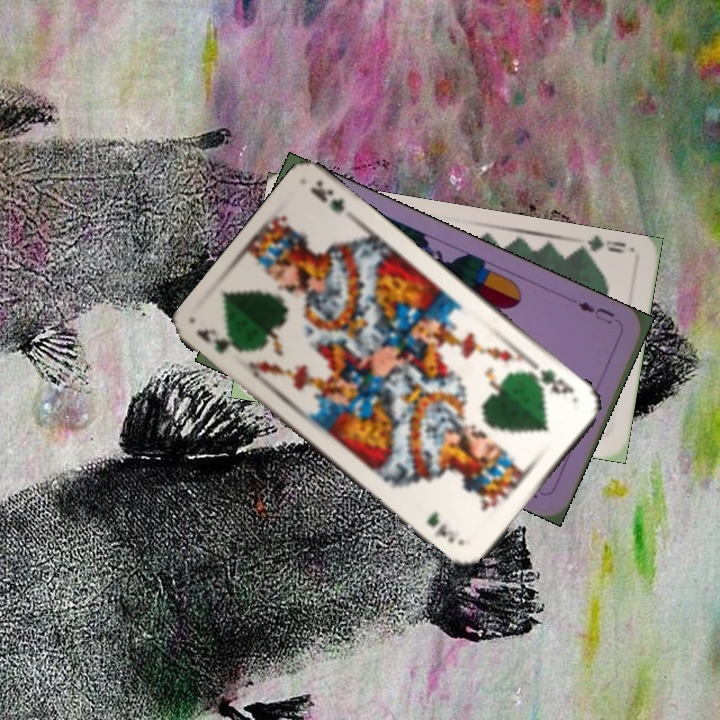EU: (573, 297, 618, 327)
G9: (574, 233, 628, 261)
GK: (192, 324, 244, 357), (529, 365, 578, 397)
